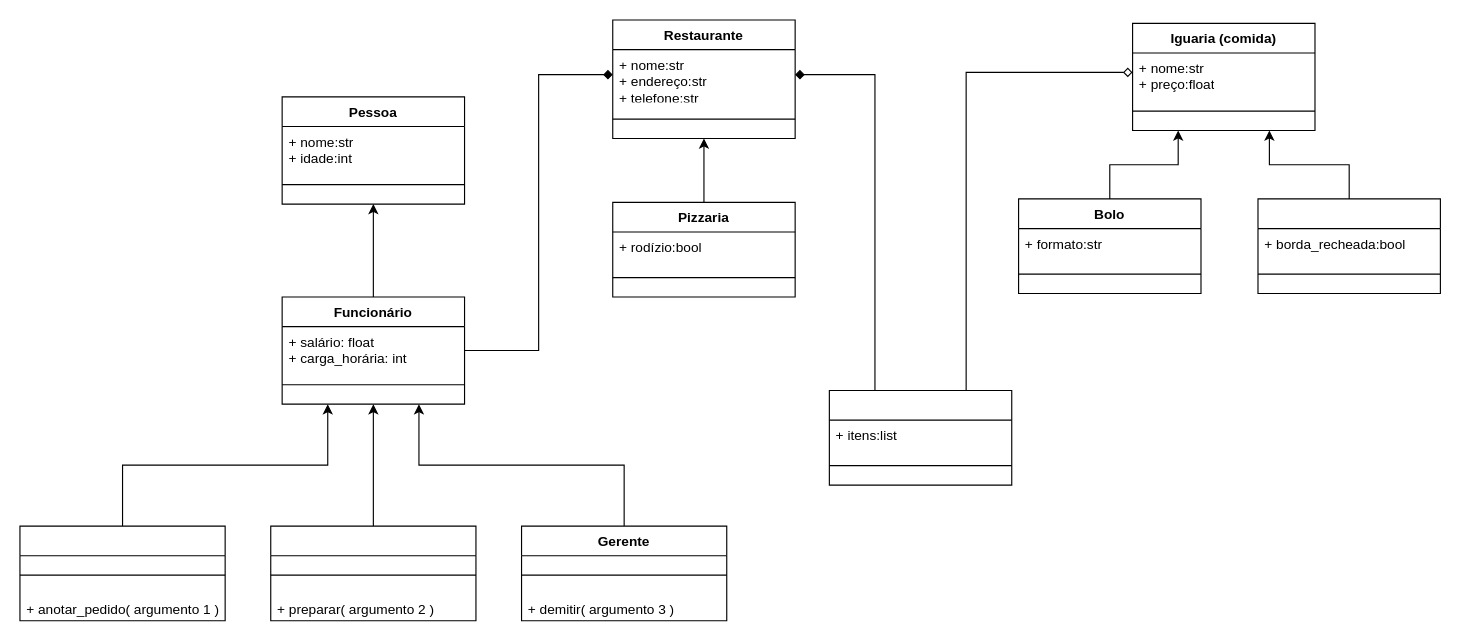
Some shapes in this 1460 by 644 pixel diagram are drawn without their labels. Here are the shapes that lost their labels. From the top down, the box of each, then its label:
(1257, 198, 1440, 294): Pizza
(828, 389, 1012, 485): Cardápio
(19, 525, 225, 621): Garçom
(270, 525, 476, 621): Chefe de Cozinha
